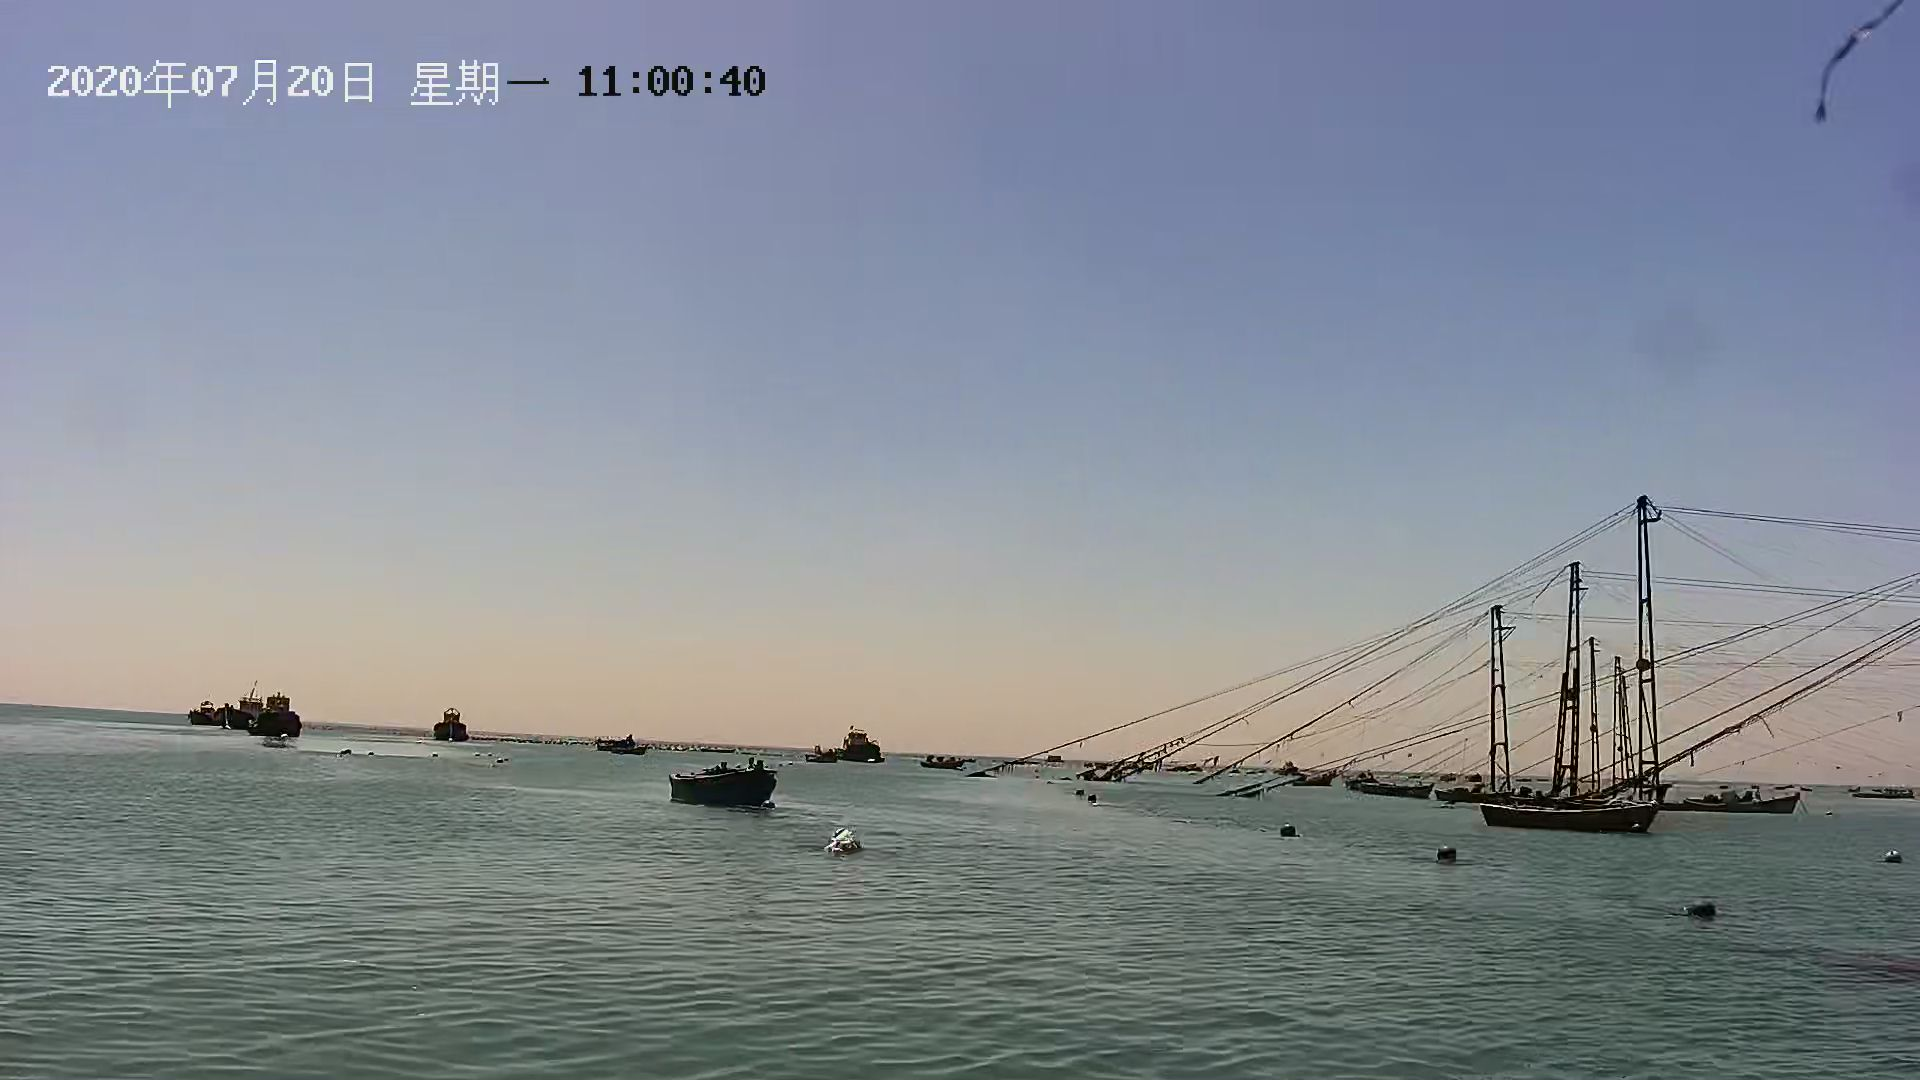ball: (1683, 897, 1721, 924), (1437, 841, 1461, 864), (1276, 820, 1299, 841), (1883, 849, 1905, 868)
boat: (1480, 800, 1662, 839), (671, 756, 781, 808), (1677, 793, 1803, 816), (1364, 773, 1435, 800), (920, 753, 967, 774), (596, 736, 645, 756)
mast: (1630, 496, 1669, 802), (1549, 568, 1582, 796), (1486, 601, 1520, 793), (1609, 658, 1638, 800), (1586, 636, 1605, 802)
rubbish: (824, 822, 866, 858)
ship: (233, 696, 302, 740), (835, 717, 882, 765), (430, 702, 468, 742)
